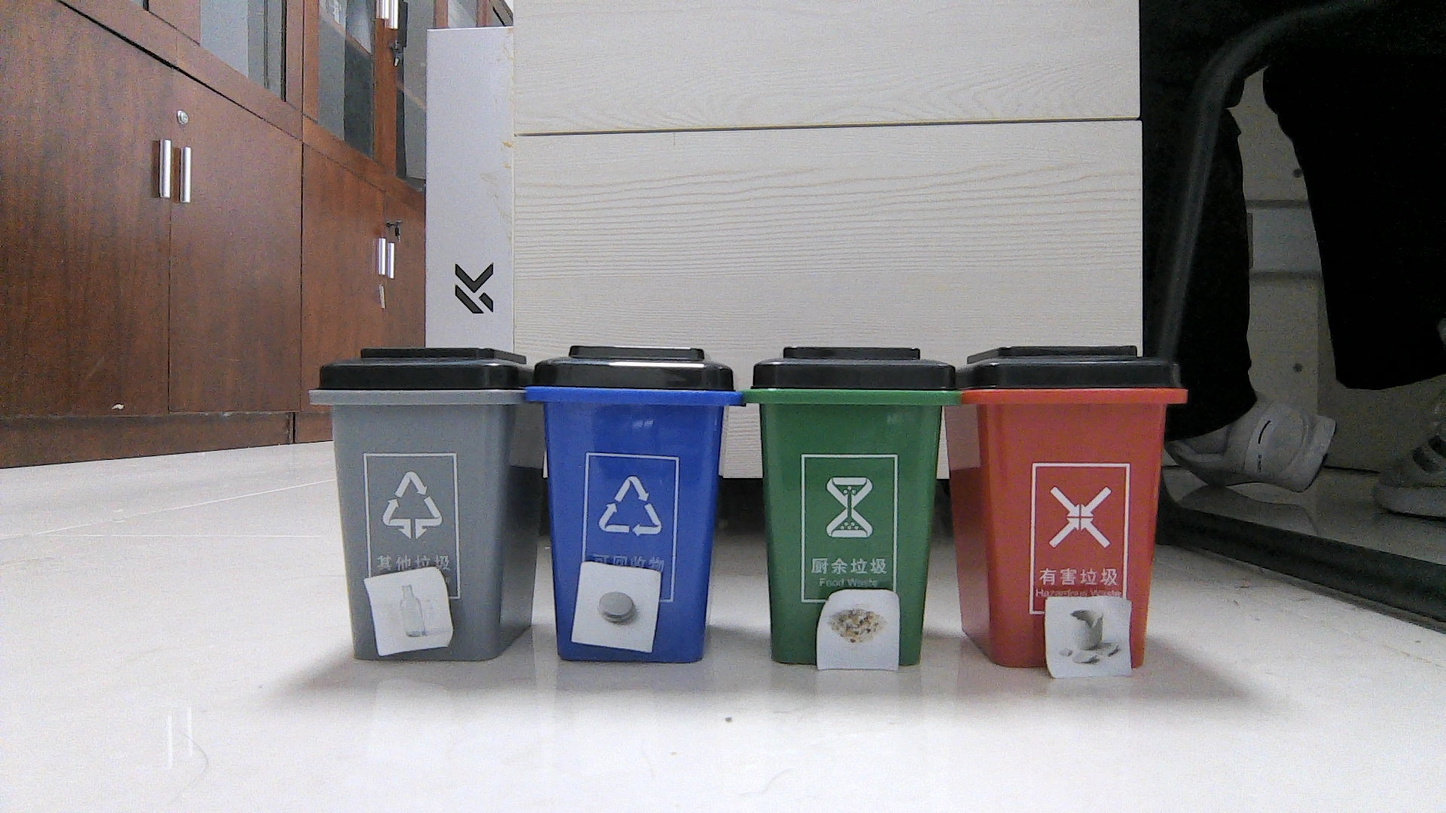food_trash: (822, 593, 893, 666)
hazardous_trash: (584, 567, 651, 643)
other_trash: (1050, 600, 1126, 674)
recyclable_trash: (378, 576, 443, 647)
